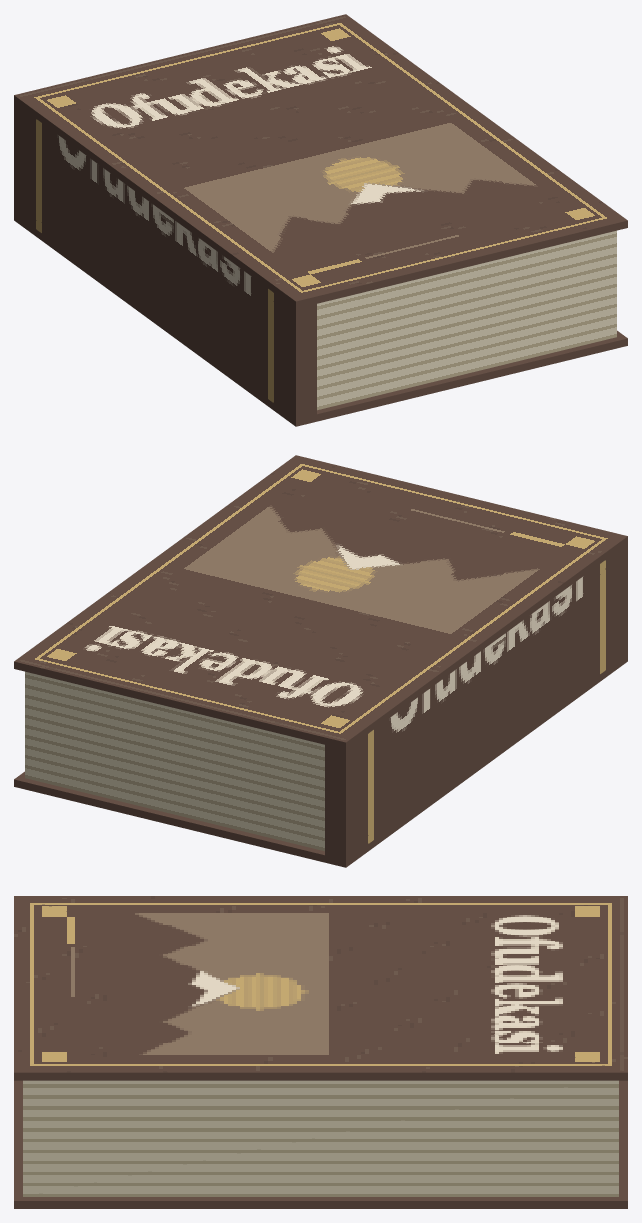
File: holybook_ofudekasi.glb
3 views of the same model, one above another, from view 1: azimuth 30°, elevation 25°; view 2: azimuth 150°, elevation 25°; view 3: azimuth 270°, elevation 25° (orthographic). The views are drawn at different scales.
Visible parts, largest first — view 1: block_front cover, block_spine, block_page block, block_back cover; view 2: block_front cover, block_spine, block_page block, block_back cover; view 3: block_front cover, block_page block, block_back cover.
Boxes of the visible parts, box(x1,y1,x2,y2) form: block_front cover: box(14, 14, 627, 308); block_spine: box(14, 103, 316, 419); block_page block: box(317, 230, 616, 410); block_back cover: box(14, 213, 627, 426); block_front cover: box(14, 455, 627, 749); block_spine: box(325, 544, 627, 860); block_page block: box(25, 671, 324, 851); block_back cover: box(14, 654, 627, 867); block_front cover: box(14, 896, 627, 1080); block_page block: box(23, 1080, 618, 1196); block_back cover: box(14, 1080, 627, 1208).
Bounding box in the file's own units: 0.1414 × 0.051 × 0.208.
1 material, 1 textured.
